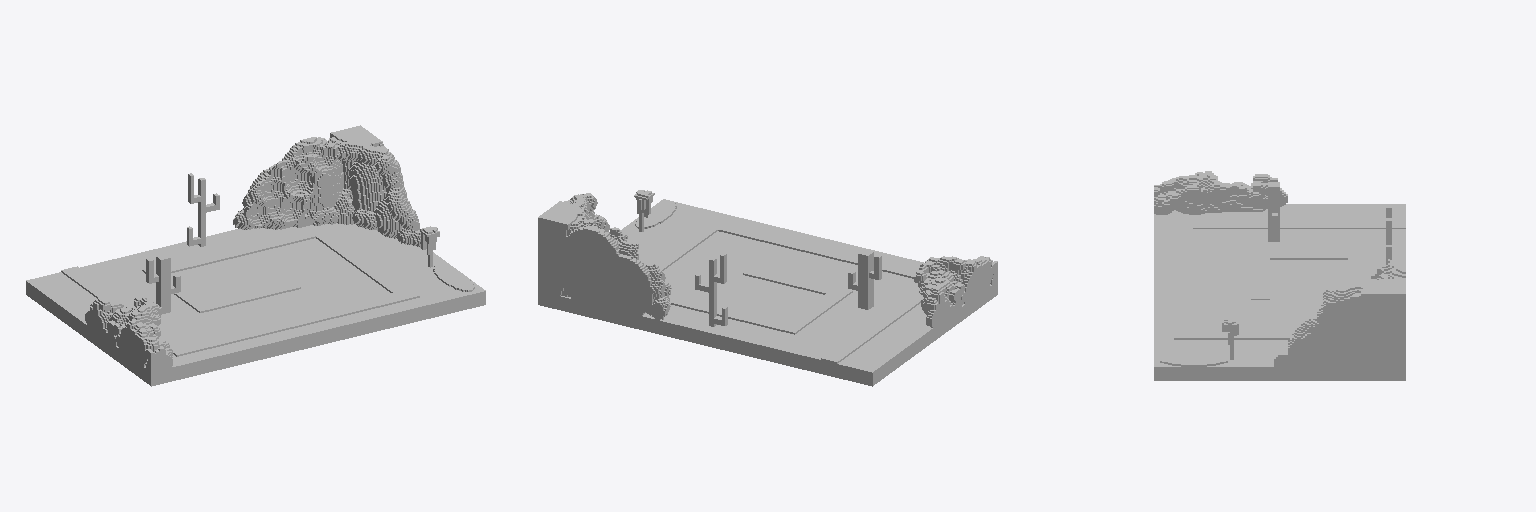
The model's file is Desert map.obj.
The picture shows the model from 3 angles: view 1: azimuth 30°, elevation 25°; view 2: azimuth 150°, elevation 25°; view 3: azimuth 270°, elevation 25°; orthographic projection.
Visible parts, largest first — view 1: object 1; view 2: object 1; view 3: object 1.
Part boxes in pixels (x1,y1,x2,y2): object 1: (26,125,485,386); object 1: (538,190,997,386); object 1: (1154,171,1405,380).
Size of the model in its own units: 20 by 5 by 13.